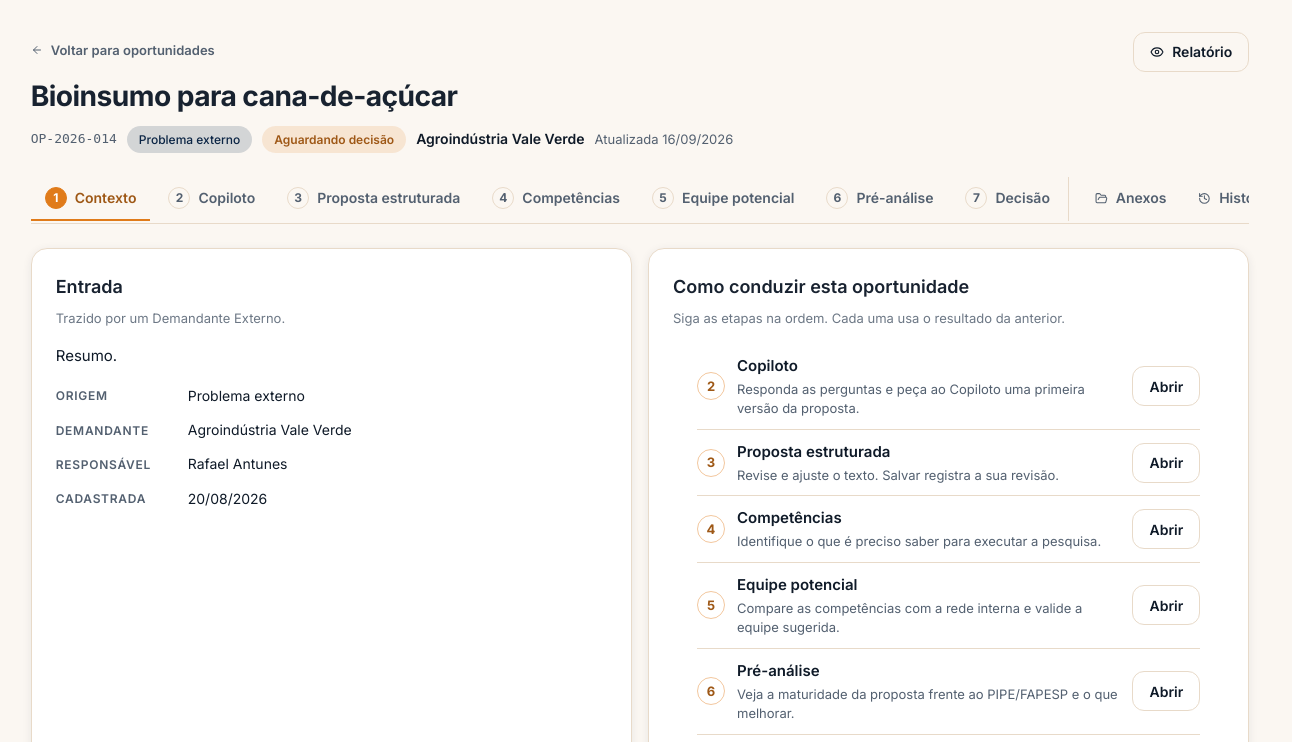
Scenario: OportunidadePage — rodada do Copiloto › trava a troca de etapa enquanto a IA trabalha
The image size is (1292, 742).
Click the button "2 Copiloto" at (212, 199), box [154, 177, 269, 221]
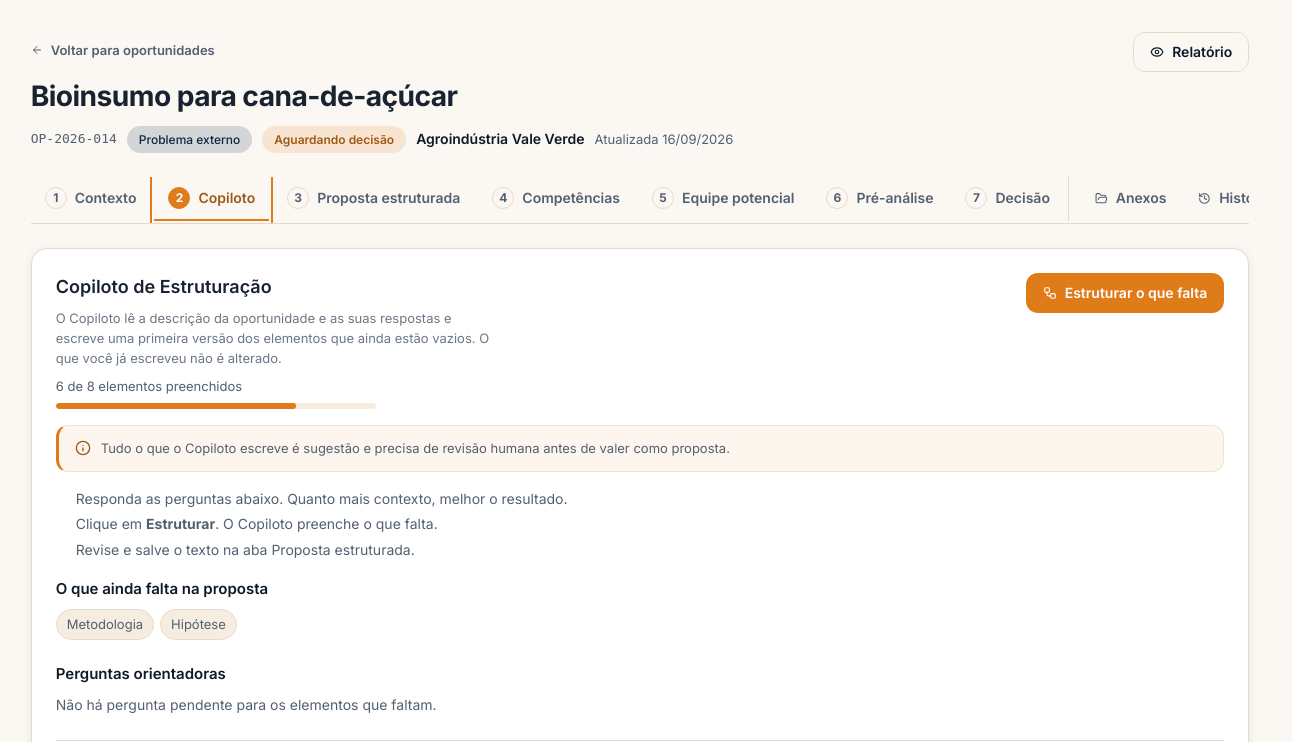
Click the button "Estruturar o que falta" at (1125, 293), box [1026, 273, 1224, 313]
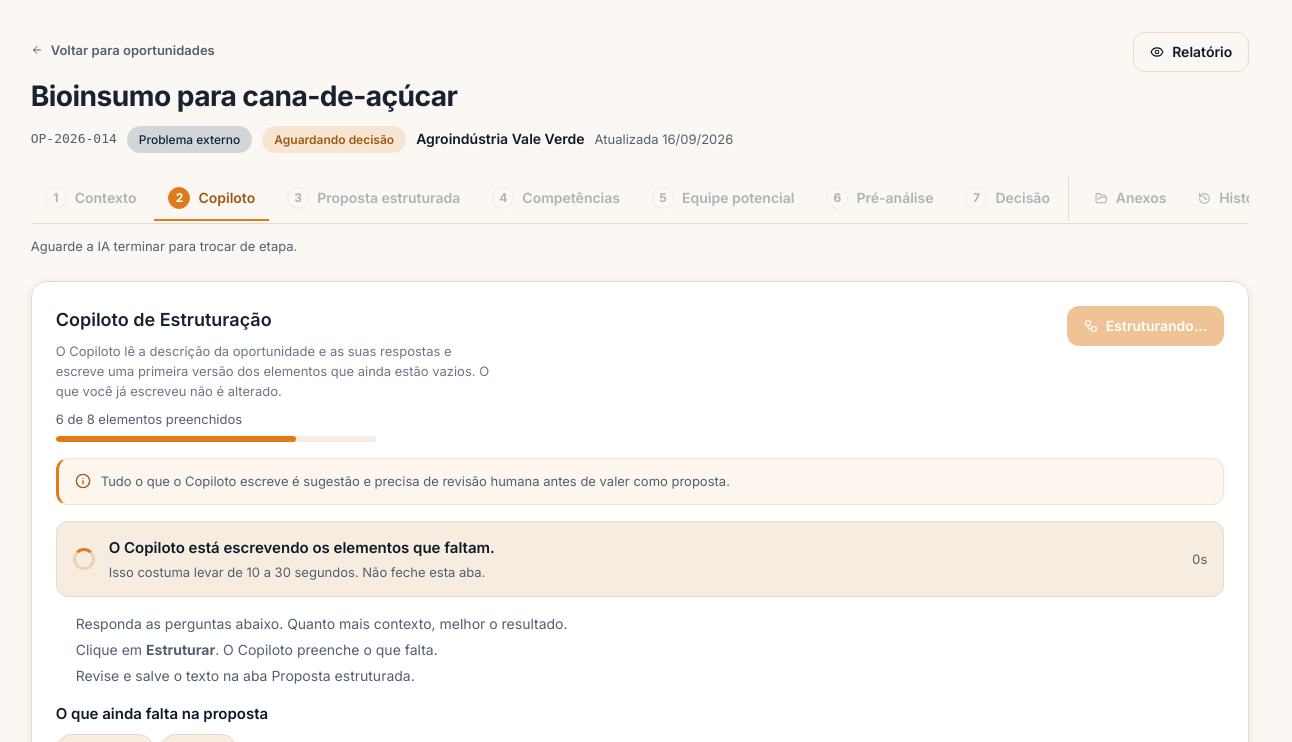
Check: the text "Aguarde a IA terminar para trocar de etapa." is shown, box [31, 238, 297, 254]
Check: the button "7 Decisão" is disabled, box [952, 177, 1064, 221]
